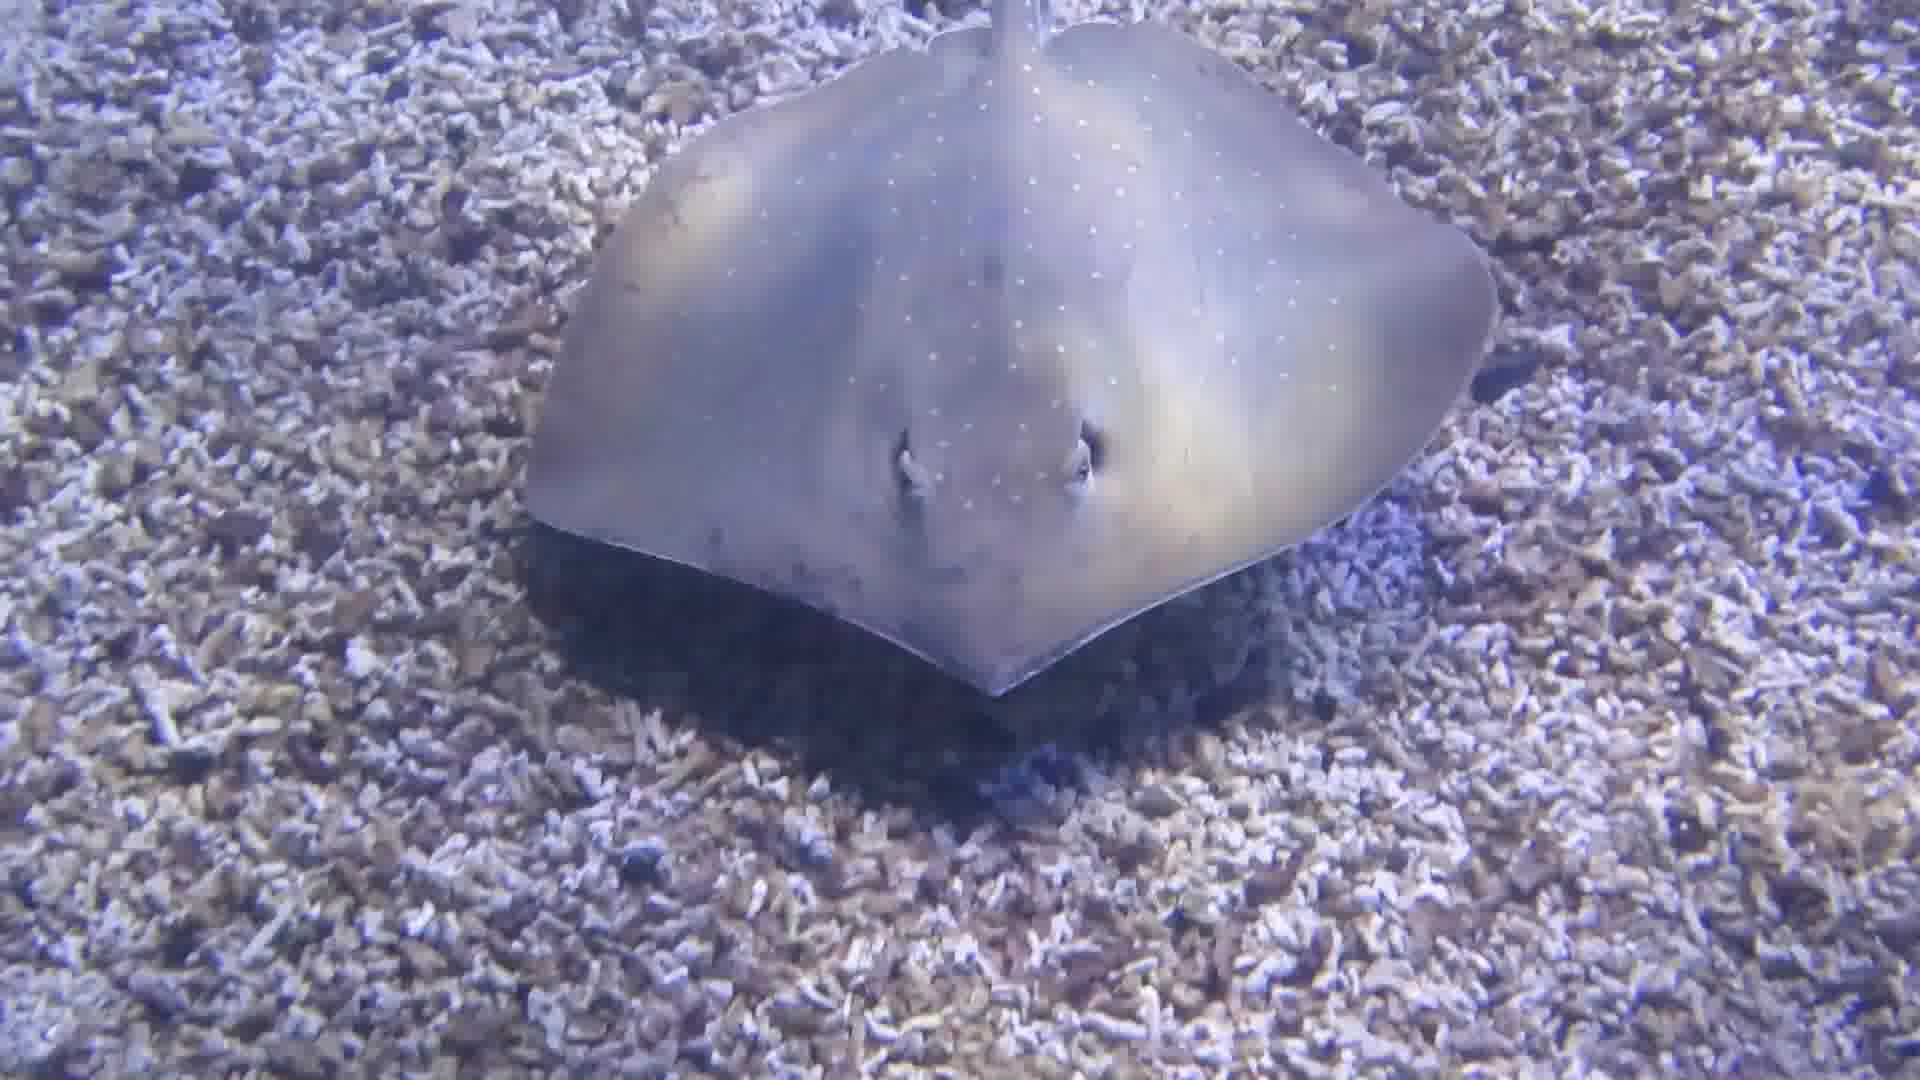Himantura gerrardi: (491, 1, 1518, 705)
